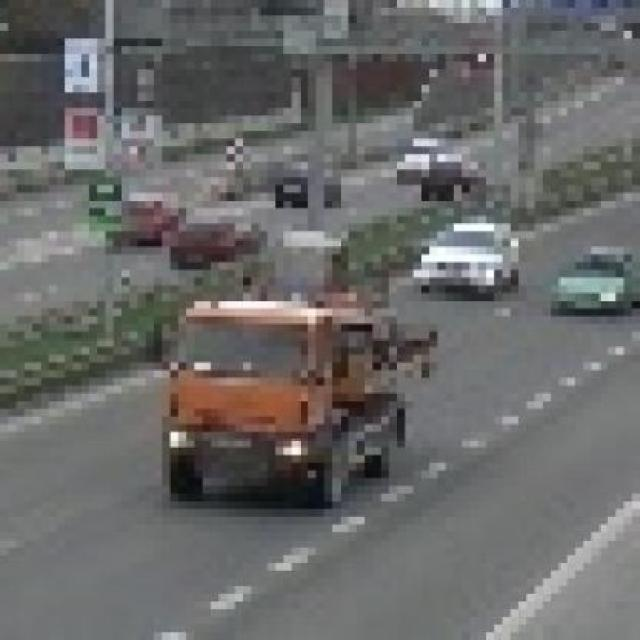truck: (147, 286, 423, 510)
